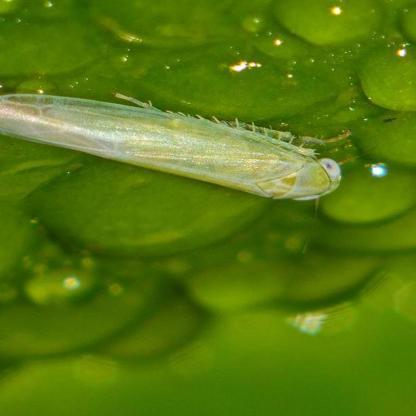green-leafhopper: (2, 94, 346, 204)
